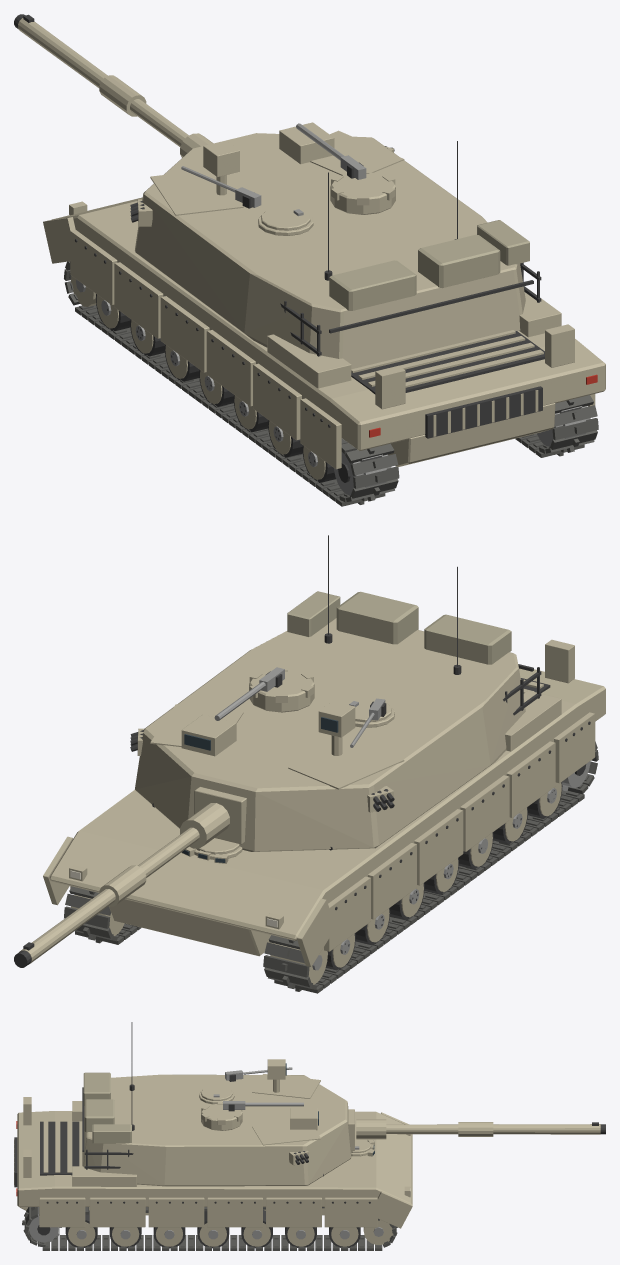
The model's file is usa_mbt_a2.glb.
3 renders of one model, top to bottom at view 1: azimuth 30°, elevation 25°; view 2: azimuth 150°, elevation 25°; view 3: azimuth 270°, elevation 25°, orthographic. The views are drawn at different scales.
Visible parts, largest first — view 1: turret, body, barrel; view 2: turret, body, barrel; view 3: body, turret, barrel.
Part boxes in pixels (x1,y1,x2,y2): turret: (130, 122, 541, 369); body: (43, 197, 605, 506); barrel: (14, 14, 213, 157); turret: (130, 535, 541, 851); body: (43, 639, 605, 993); barrel: (14, 803, 229, 967); body: (14, 1097, 412, 1250); turret: (82, 1022, 354, 1186); barrel: (356, 1119, 605, 1139).
Bounding box in the file's own units: 3.88 × 3.85 × 11.88.
